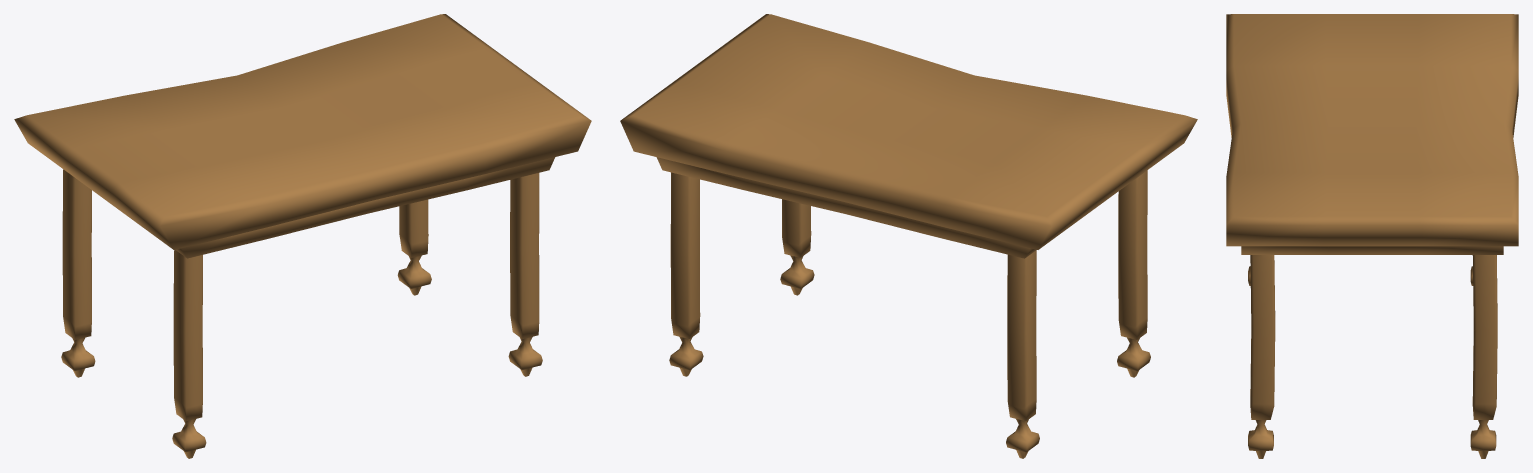
The model's file is props_table(1).fbx.
3 renders of one model, left to right at view 1: azimuth 30°, elevation 25°; view 2: azimuth 150°, elevation 25°; view 3: azimuth 270°, elevation 25°, orthographic.
Visible parts, largest first — view 1: table; view 2: table; view 3: table.
Part boxes in pixels (x1,y1,x2,y2): table: [14, 14, 591, 458]; table: [620, 14, 1197, 458]; table: [1226, 14, 1518, 458].
Size of the model in its own units: 178 by 103 by 105.
